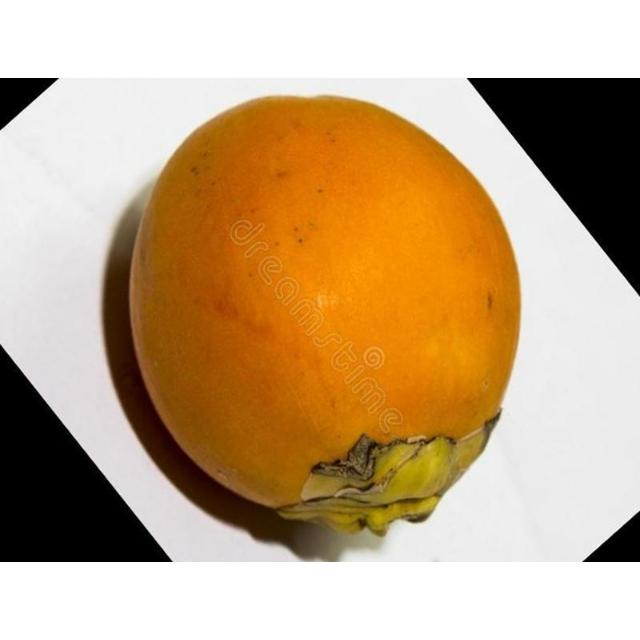good: (123, 95, 523, 540)
